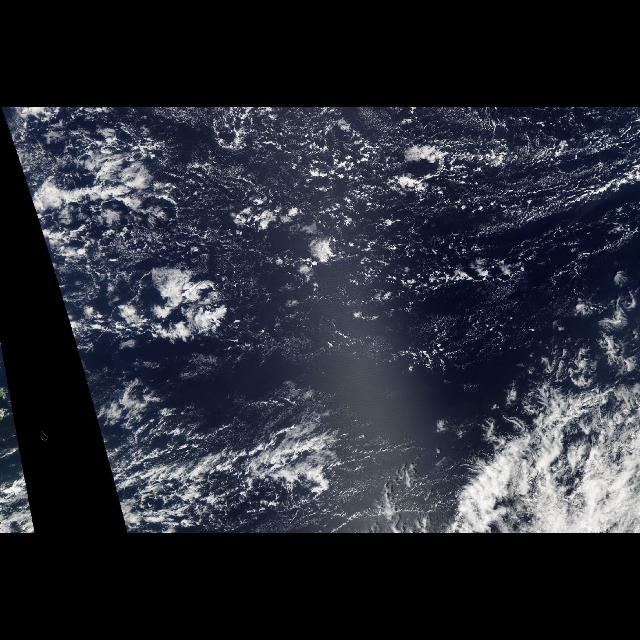Gravel: (152, 113, 610, 304)
